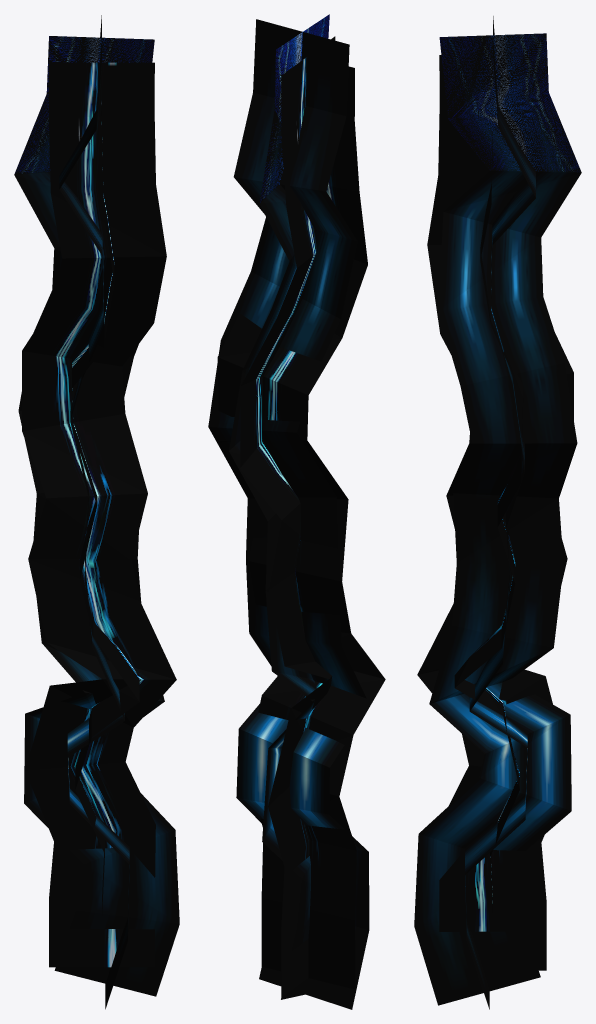
Rendered from taoist_shandianlian_fire.obj.
3 views of the same model, side by side, from view 1: azimuth 90°, elevation 25°; view 2: azimuth 150°, elevation 25°; view 3: azimuth 270°, elevation 25° (orthographic).
Visible parts, largest first — view 1: Plane07, liudong, Plane06; view 2: liudong, Plane07, Plane06; view 3: liudong, Plane07, Plane06.
Part boxes in pixels (x1=…): Plane07: x1=22, y1=62, x2=176, y2=967; liudong: x1=14, y1=15, x2=179, y2=1009; Plane06: x1=15, y1=36, x2=154, y2=173; liudong: x1=208, y1=14, x2=369, y2=1009; Plane07: x1=217, y1=36, x2=385, y2=997; Plane06: x1=260, y1=14, x2=329, y2=202; liudong: x1=414, y1=16, x2=581, y2=1009; Plane07: x1=417, y1=55, x2=573, y2=970; Plane06: x1=439, y1=33, x2=579, y2=171.
Size of the model in its own units: 30.39 by 200 by 31.29.
3 materials, 3 textured.
